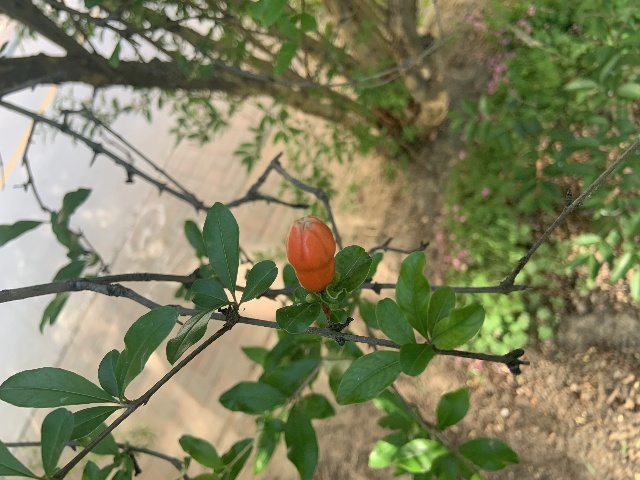bud: (285, 214, 336, 292)
